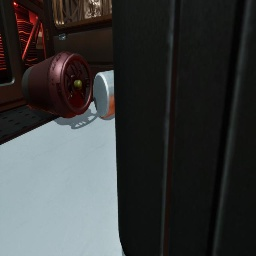0: (93, 70, 115, 119)
EmergencyPhone ,: (46, 28, 49, 40)
NitrogenTank ,: (21, 51, 93, 118)
SafetySwitchPanel ,: (33, 25, 44, 49)
